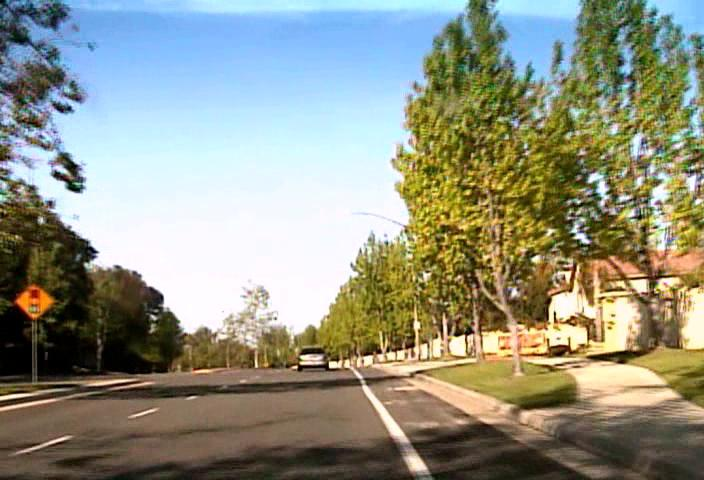signalAhead: (14, 282, 54, 321)
